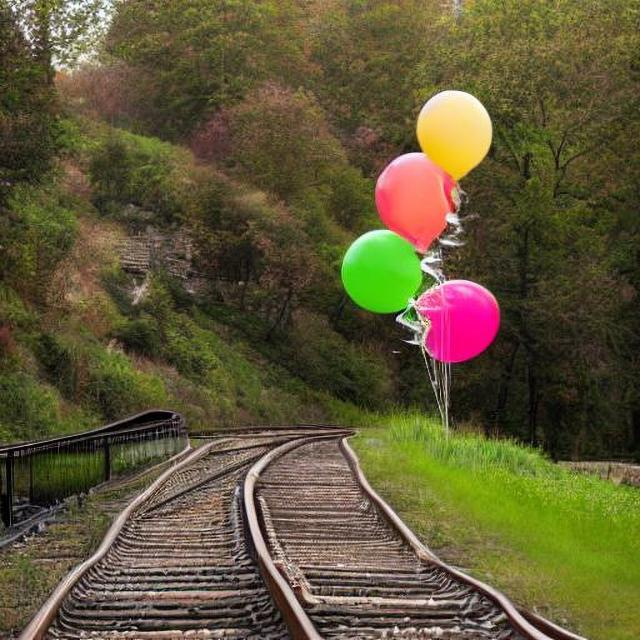balloon: (334, 86, 494, 378)
